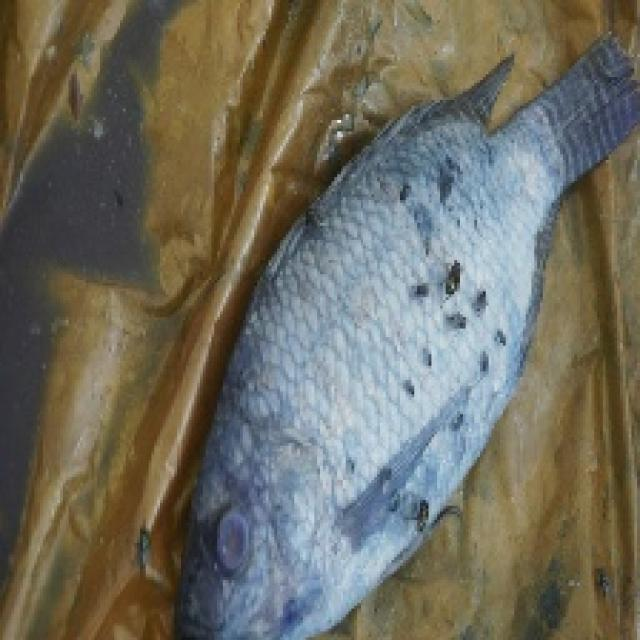Non-Fresh: (240, 41, 560, 606), (195, 486, 281, 594)
